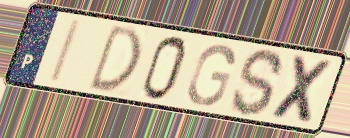0: (140, 33, 190, 102)
D: (85, 22, 143, 93)
G: (185, 43, 237, 108)
I: (46, 18, 85, 86)
S: (228, 47, 286, 119)
X: (268, 52, 337, 128)
